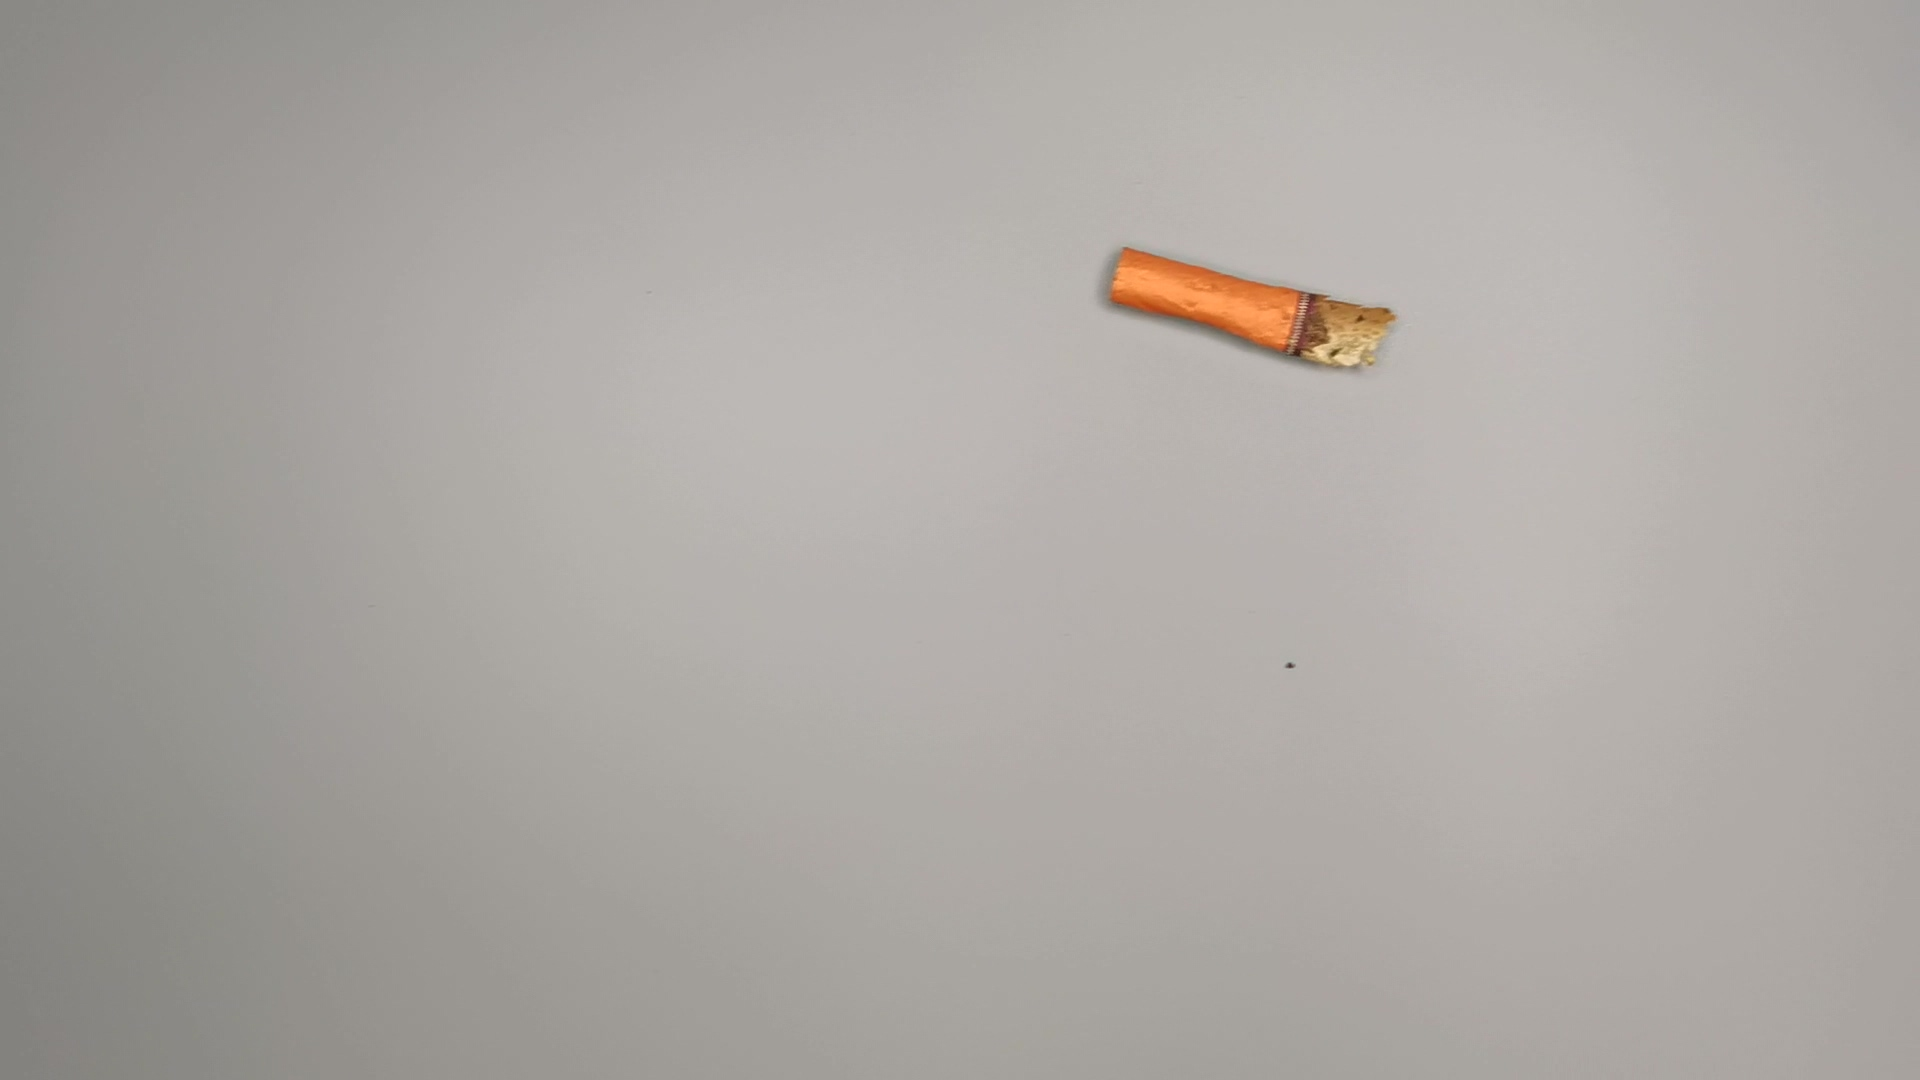cigarette: (1104, 237, 1406, 378)
